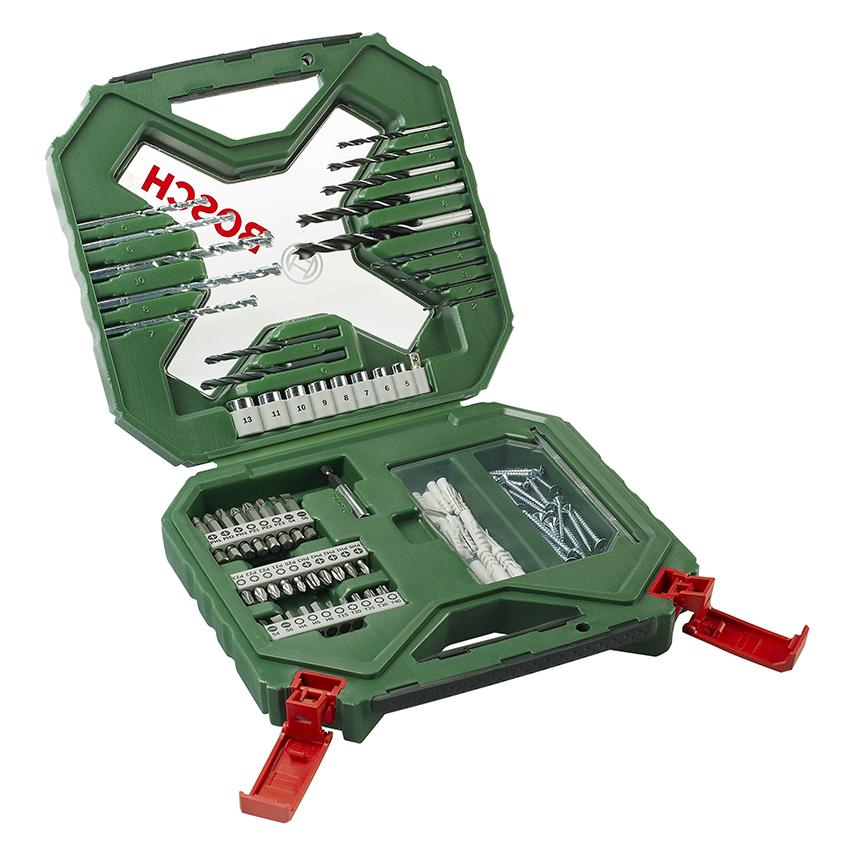Bosch: (140, 159, 279, 256)
